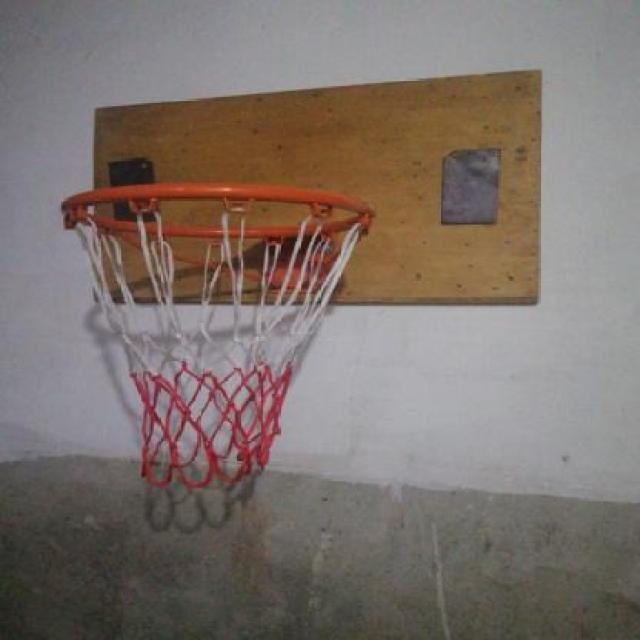rim: (64, 183, 372, 489)
